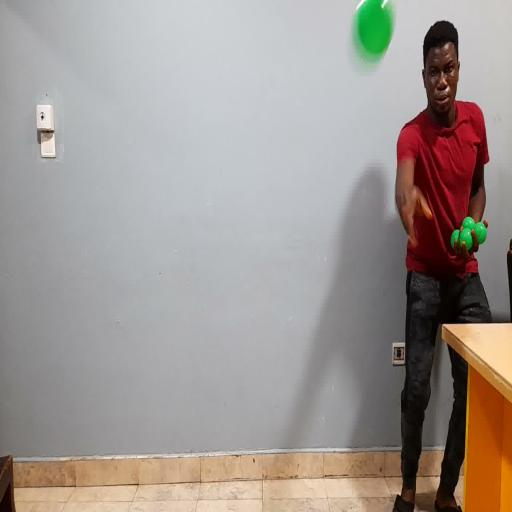plastic-ball: (352, 0, 395, 71)
